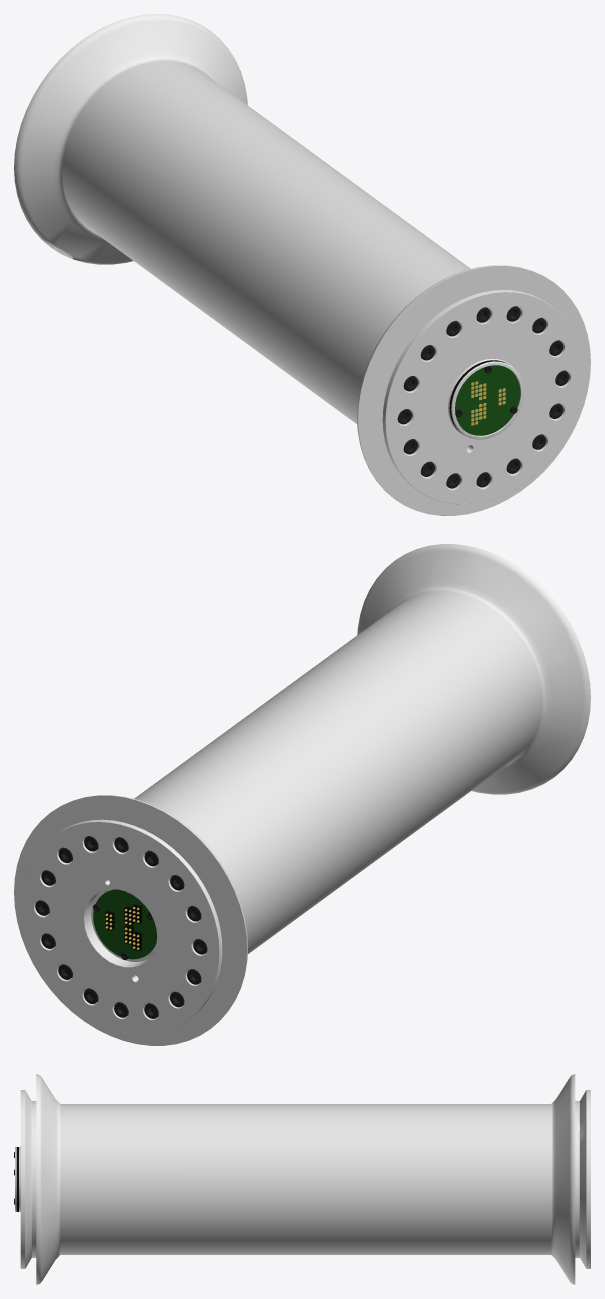
The picture shows the model from 3 angles, top to bottom: view 1: azimuth 30°, elevation 25°; view 2: azimuth 150°, elevation 25°; view 3: azimuth 270°, elevation 25°; orthographic projection. The views are drawn at different scales.
Parts seen in each view (by area): view 1: I148.001; view 2: I148.001; view 3: I148.001.
Boxes of the visible parts, bbox=[...] form: I148.001: bbox=[14, 14, 590, 515]; I148.001: bbox=[14, 544, 590, 1045]; I148.001: bbox=[14, 1074, 590, 1284].
Bounding box in the file's own units: 0.148 × 0.1477 × 0.4046.
